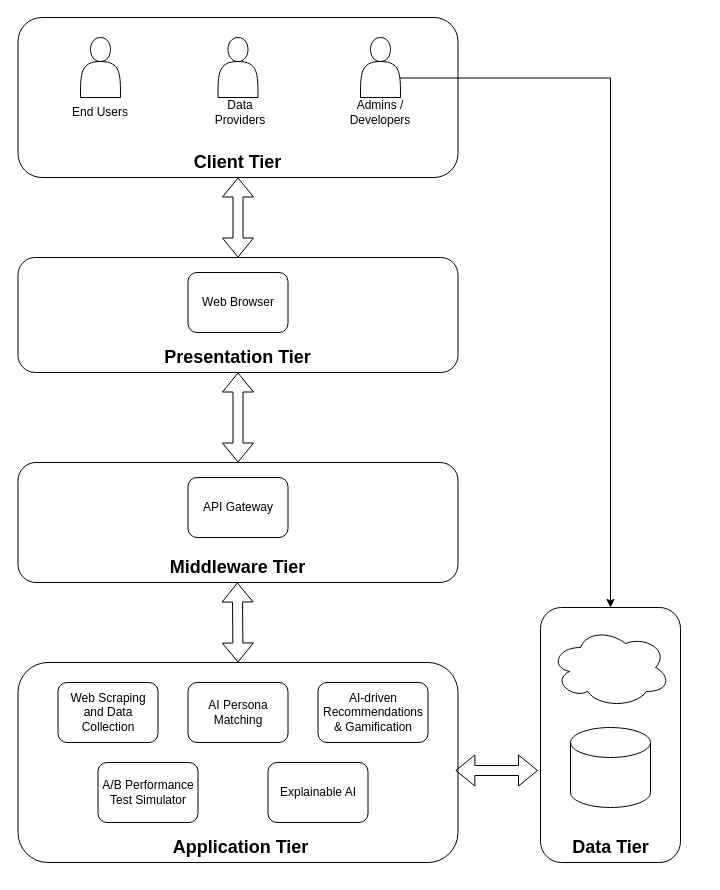
Image size: 720x890. Some labels were removed from this diagram. Here are the shapes that lost their labels. From the top down, the centre of each, then its label:
point (610, 667): Firestore
point (610, 767): Database
